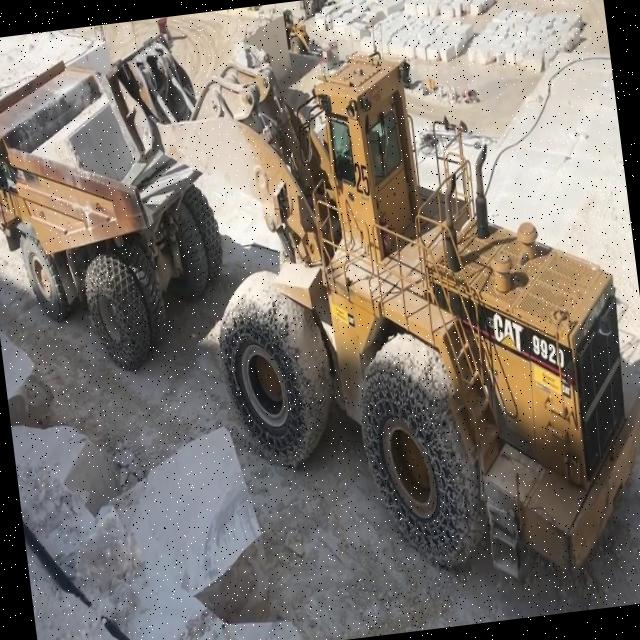Dump Truck: (0, 45, 233, 381)
Loader: (96, 0, 640, 614)
